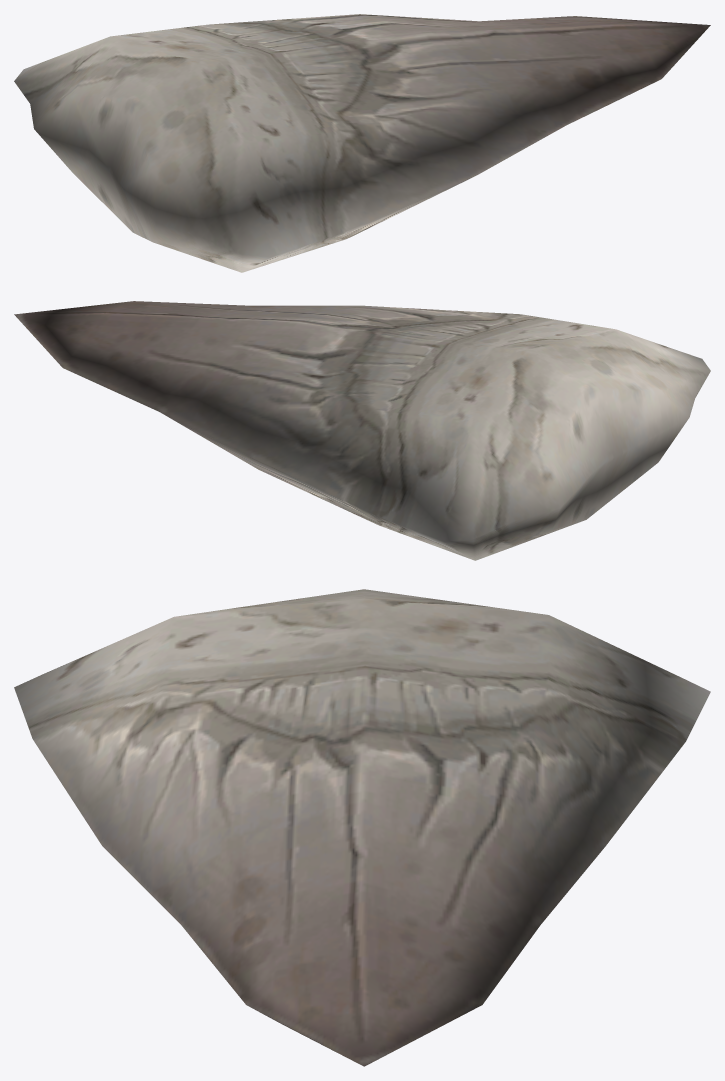
The model's file is sharktooth.obj.
3 views of the same model, one above another, from view 1: azimuth 30°, elevation 25°; view 2: azimuth 150°, elevation 25°; view 3: azimuth 270°, elevation 25° (orthographic). The views are drawn at different scales.
Visible parts, largest first — view 1: SHARKTOOTH0; view 2: SHARKTOOTH0; view 3: SHARKTOOTH0.
Part boxes in pixels (x1=…): SHARKTOOTH0: x1=14, y1=14, x2=710, y2=272; SHARKTOOTH0: x1=14, y1=301, x2=710, y2=560; SHARKTOOTH0: x1=14, y1=589, x2=710, y2=1066.
Size of the model in its own units: 0.9366 by 0.2571 by 0.6673.
Materials: 1 (1 with a texture image).
